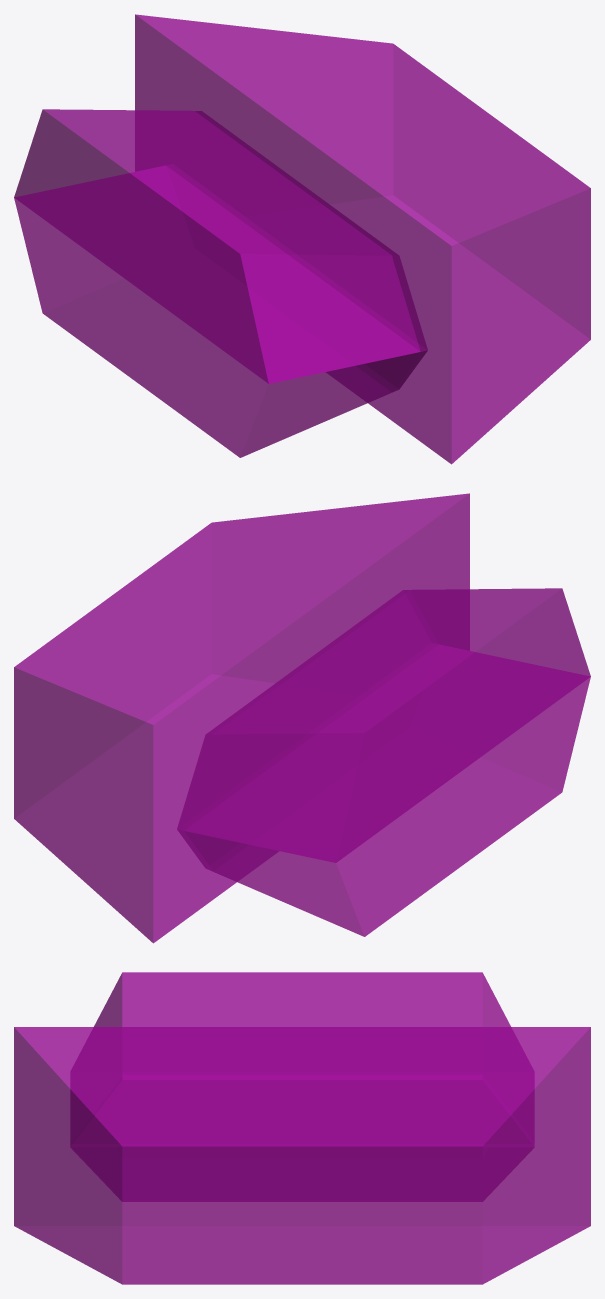
The model's file is SM_Veh_Ship_01_Wing_L_Collision.fbx.
The picture shows the model from 3 angles, top to bottom: view 1: azimuth 30°, elevation 25°; view 2: azimuth 150°, elevation 25°; view 3: azimuth 270°, elevation 25°; orthographic projection. The views are drawn at different scales.
Visible parts, largest first — view 1: SM_Veh_Ship_01_Wing_L_Collision; view 2: SM_Veh_Ship_01_Wing_L_Collision; view 3: SM_Veh_Ship_01_Wing_L_Collision.
Part boxes in pixels (box(x1,y1,x2,y2)): SM_Veh_Ship_01_Wing_L_Collision: box(14, 14, 590, 464); SM_Veh_Ship_01_Wing_L_Collision: box(14, 493, 590, 943); SM_Veh_Ship_01_Wing_L_Collision: box(14, 972, 590, 1284).
Bounding box in the file's own units: 3745 × 2229 × 5853.
